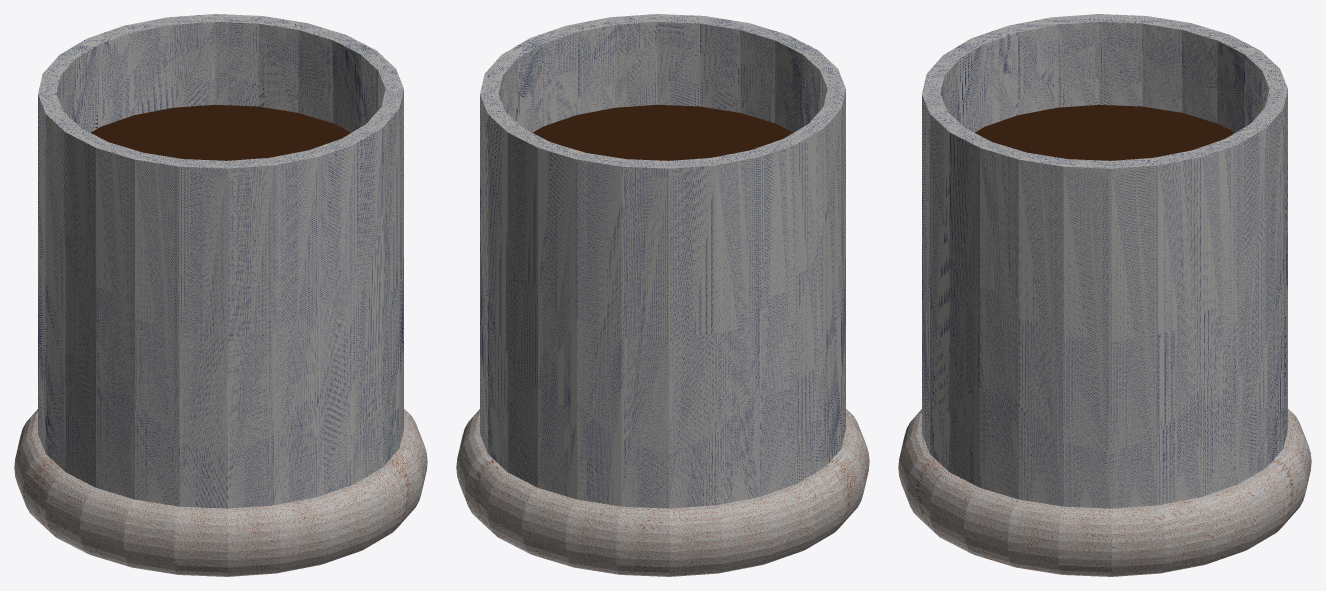
The picture shows the model from 3 angles, left to right: view 1: azimuth 30°, elevation 25°; view 2: azimuth 150°, elevation 25°; view 3: azimuth 270°, elevation 25°; orthographic projection.
Parts seen in each view (by area): view 1: mesh1_mesh1-geometry; view 2: mesh1_mesh1-geometry; view 3: mesh1_mesh1-geometry.
Boxes of the visible parts, x1,y1,x2,y2 form: mesh1_mesh1-geometry: (14, 14, 427, 576); mesh1_mesh1-geometry: (456, 14, 869, 576); mesh1_mesh1-geometry: (898, 14, 1311, 576).
Bounding box in the file's own units: 0.5608 × 0.6091 × 0.5608.
